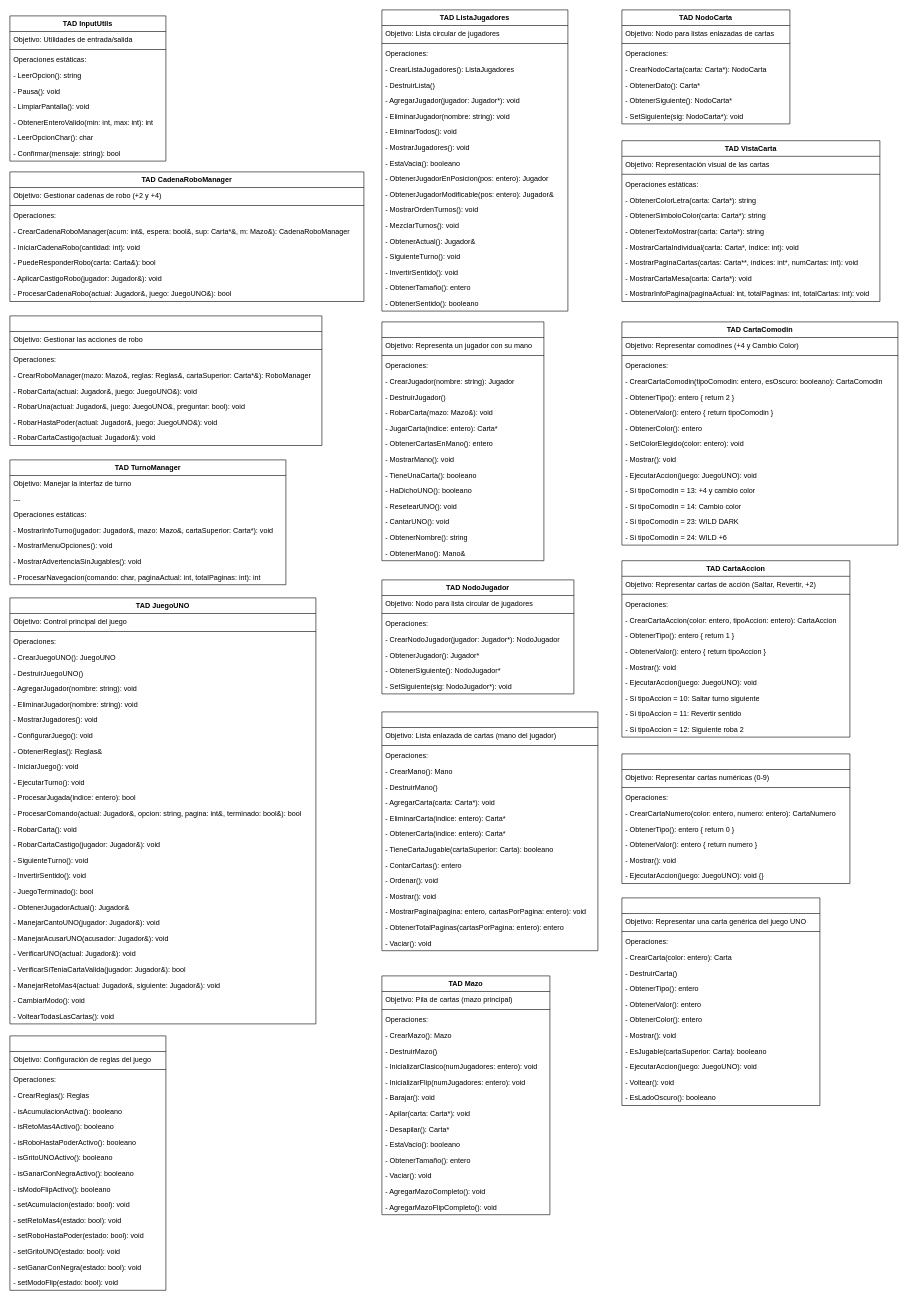
This 908x1300 diagram has some shape labels left out. Each missing label, with the box of its shape:
TAD Carta: (621, 897, 820, 1106)
TAD CartaNumero: (621, 753, 850, 884)
TAD Jugador: (381, 321, 544, 561)
TAD Mano: (381, 711, 598, 951)
TAD Reglas: (9, 1035, 166, 1290)
TAD RoboManager: (9, 315, 322, 446)
